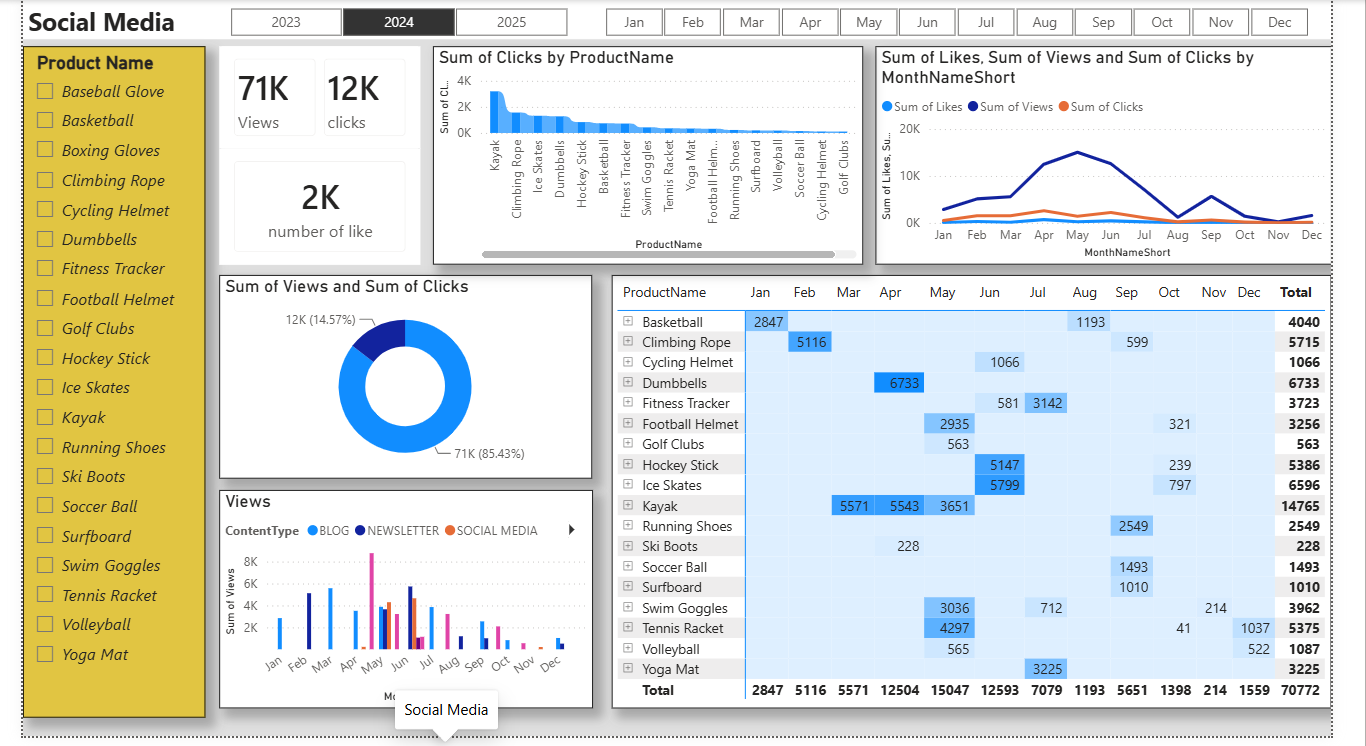

What the dashboard file says about the page in this screenshot:
{"tool":"powerbi","page":{"name":"Social Media","canvas":[1280,720],"ordinal":2},"visuals":[{"type":"textbox","box":[0,0,1280.3,38.4],"z":0},{"type":"slicer","fields":{"Values":["products.ProductName"]},"box":[0,45.2,178.5,656.7],"z":1000},{"type":"cardVisual","fields":{"Data":["Calculations.Views","Calculations.clicks"]},"box":[192,45.2,196.9,100.3],"z":6000},{"type":"cardVisual","fields":{"Data":["Calculations.number of like"]},"box":[192,145.5,196.9,113.7],"z":8000},{"type":"slicer","fields":{"Values":["Calendar.Year"]},"box":[177.1,1.2,378.9,37.1],"z":9000},{"type":"slicer","fields":{"Values":["Calendar.MonthNameShort"]},"box":[543.5,1.2,736.7,37.1],"z":10000},{"type":"lineChart","fields":{"Y":["Sum(engagement_data.Likes)","Sum(engagement_data.Views)","Sum(engagement_data.Clicks)"],"Category":["Calendar.MonthNameShort"]},"box":[834,45.2,446.3,214],"z":13000},{"type":"donutChart","fields":{"Y":["Sum(engagement_data.Views)","Sum(engagement_data.Clicks)"]},"box":[192,269,364.4,199.3],"z":14000},{"type":"clusteredColumnChart","title":"Views","fields":{"Category":["Calendar.MonthNameShort"],"Y":["Sum(engagement_data.Views)"],"Series":["engagement_data.ContentType"]},"box":[192,479.4,365.6,214],"z":16001},{"type":"pivotTable","fields":{"Values":["Sum(engagement_data.Views)"],"Rows":["products.ProductName","engagement_data.ContentType"],"Columns":["Calendar.MonthNameShort"]},"box":[576,269,704.4,424.3],"z":16002},{"type":"ribbonChart","fields":{"Category":["products.ProductName"],"Y":["Sum(engagement_data.Clicks)"]},"box":[401.1,45.2,420.7,214],"z":16003}]}

Visuals, with their boxes in screenshot pixels (x1, y1, x2, y2), scaled from the page's 1280x720 canvas onto the 1366x746 screenshot:
textbox: bbox(0, 0, 1365, 40)
slicer - products.ProductName: bbox(0, 47, 190, 727)
cardVisual - Calculations.Views x Calculations.clicks: bbox(205, 47, 415, 151)
cardVisual - Calculations.number of like: bbox(205, 151, 415, 269)
slicer - Calendar.Year: bbox(189, 1, 593, 40)
slicer - Calendar.MonthNameShort: bbox(580, 1, 1365, 40)
lineChart - Sum(engagement_data.Likes) x Sum(engagement_data.Views): bbox(890, 47, 1365, 269)
donutChart - Sum(engagement_data.Views) x Sum(engagement_data.Clicks): bbox(205, 279, 594, 485)
"Views" clusteredColumnChart: bbox(205, 497, 595, 718)
pivotTable - Sum(engagement_data.Views) x products.ProductName: bbox(615, 279, 1365, 718)
ribbonChart - products.ProductName x Sum(engagement_data.Clicks): bbox(428, 47, 877, 269)
